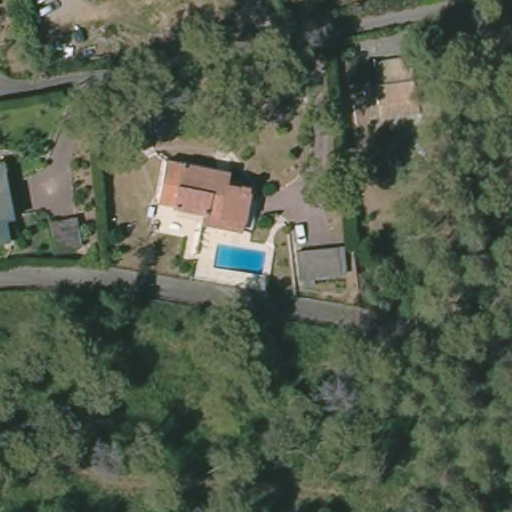pool: (205, 239, 276, 276)
